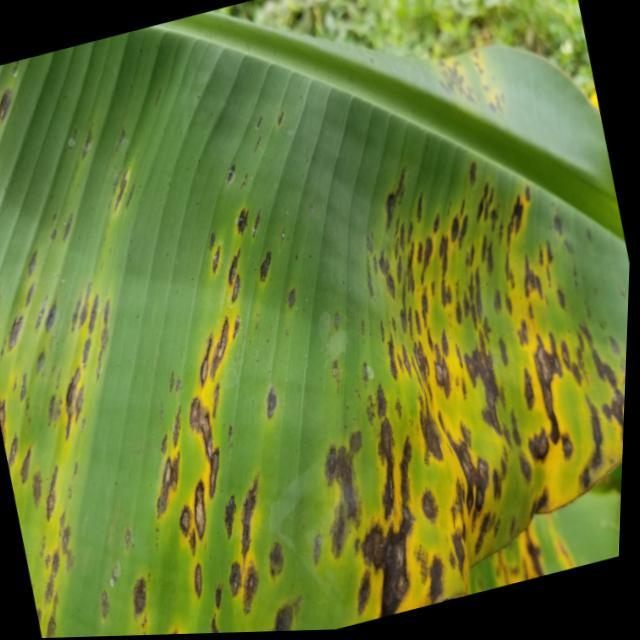Early_rust: (0, 64, 640, 631)
